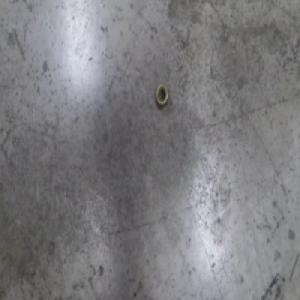Nut: (154, 81, 169, 110)
